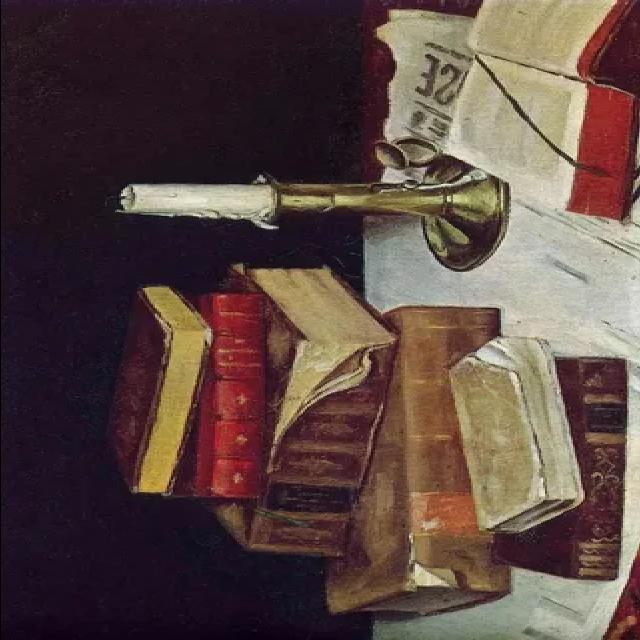book: (412, 0, 640, 231), (194, 280, 276, 508)
